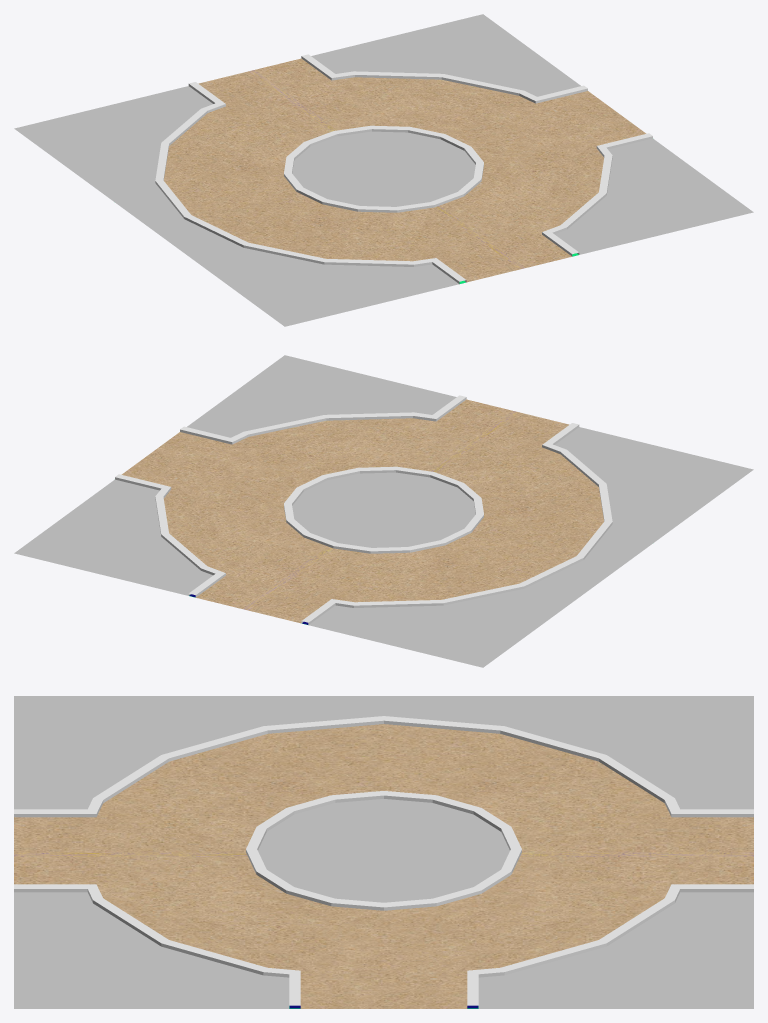
File: Park-T-ShapedIntersection.fbx
3 renders of one model, top to bottom at view 1: azimuth 30°, elevation 25°; view 2: azimuth 150°, elevation 25°; view 3: azimuth 270°, elevation 25°, orthographic. The views are drawn at different scales.
Parts seen in each view (by area): view 1: _T_Park_T_ShapedIntersectionBG; view 2: _T_Park_T_ShapedIntersectionBG; view 3: _T_Park_T_ShapedIntersectionBG.
Boxes of the visible parts, box(x1,y1,x2,y2) form: _T_Park_T_ShapedIntersectionBG: box(14, 14, 753, 326); _T_Park_T_ShapedIntersectionBG: box(14, 355, 753, 667); _T_Park_T_ShapedIntersectionBG: box(14, 696, 753, 1008).
Size of the model in its own units: 2000 by 10 by 2000.
